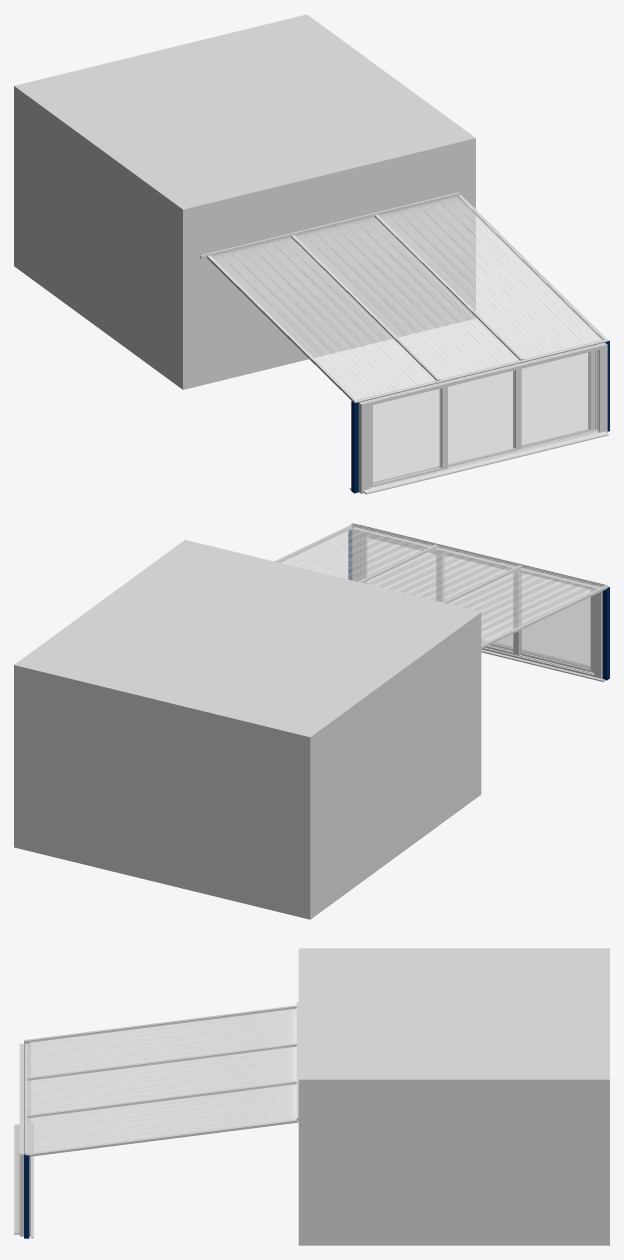
File: BasicVeranda6.glb
3 views of the same model, one above another, from view 1: azimuth 30°, elevation 25°; view 2: azimuth 150°, elevation 25°; view 3: azimuth 270°, elevation 25° (orthographic). The views are drawn at different scales.
Parts seen in each view (by area): view 1: Huis, PolyKanaalplaat03, PolyKanaalplaat01, PolyKanaalplaat02, WindowPanelLeft, WindowPanelMid, WindowPanelRight, WindowFrame, EindLiggerLinks, Ligger02, Ligger01, EindLiggerRechts (+2 smaller); view 2: Huis, PolyKanaalplaat03, WindowPanelLeft, PolyKanaalplaat01, PolyKanaalplaat02, WindowFrame, WindowPanelMid, WindowPanelRight, GootProfiel, Legs01Left, EindLiggerLinks; view 3: Huis, PolyKanaalplaat01, PolyKanaalplaat03, PolyKanaalplaat02, WindowFrame, EindLiggerRechts, EindLiggerLinks, Ligger01, Ligger02, Legs01Right, GootProfiel.
Part boxes in pixels (left/top/right/bottom): Huis: left=14, top=14, right=475, bottom=389; PolyKanaalplaat03: left=212, top=237, right=436, bottom=399; PolyKanaalplaat01: left=379, top=196, right=603, bottom=359; PolyKanaalplaat02: left=296, top=217, right=519, bottom=379; WindowPanelLeft: left=369, top=387, right=447, bottom=487; WindowPanelMid: left=439, top=369, right=521, bottom=467; WindowPanelRight: left=513, top=351, right=595, bottom=448; WindowFrame: left=349, top=340, right=608, bottom=494; EindLiggerLinks: left=207, top=255, right=356, bottom=402; Ligger02: left=291, top=235, right=440, bottom=380; Ligger01: left=374, top=214, right=523, bottom=360; EindLiggerRechts: left=457, top=194, right=606, bottom=339; Huis: left=14, top=540, right=481, bottom=919; PolyKanaalplaat03: left=447, top=567, right=602, bottom=644; WindowPanelLeft: left=520, top=573, right=594, bottom=672; PolyKanaalplaat01: left=278, top=526, right=433, bottom=581; PolyKanaalplaat02: left=363, top=547, right=517, bottom=602; WindowFrame: left=352, top=524, right=607, bottom=681; WindowPanelMid: left=443, top=554, right=520, bottom=655; WindowPanelRight: left=360, top=534, right=443, bottom=601; GootProfiel: left=350, top=523, right=607, bottom=587; Legs01Left: left=602, top=587, right=609, bottom=680; EindLiggerLinks: left=481, top=585, right=608, bottom=648; Huis: left=296, top=948, right=609, bottom=1245; PolyKanaalplaat01: left=27, top=1083, right=296, bottom=1153; PolyKanaalplaat03: left=27, top=1008, right=296, bottom=1077; PolyKanaalplaat02: left=27, top=1046, right=296, bottom=1114; WindowFrame: left=14, top=1043, right=33, bottom=1238; EindLiggerRechts: left=26, top=1119, right=298, bottom=1156; EindLiggerLinks: left=24, top=1005, right=296, bottom=1042; Ligger01: left=26, top=1081, right=296, bottom=1118; Ligger02: left=26, top=1043, right=296, bottom=1080; Legs01Right: left=24, top=1153, right=29, bottom=1238; GootProfiel: left=24, top=1040, right=27, bottom=1154.
Bounding box in the file's own units: 34 × 20 × 65.07.
3 materials, 1 textured.
